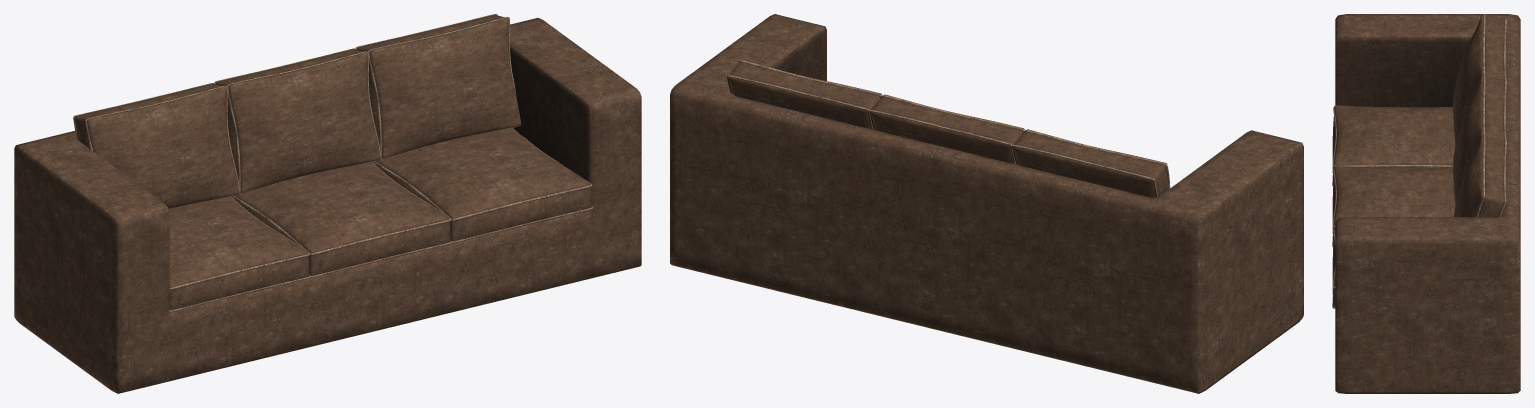
Rendered from Oldsofa.FBX.
The picture shows the model from 3 angles, left to right: view 1: azimuth 30°, elevation 25°; view 2: azimuth 150°, elevation 25°; view 3: azimuth 270°, elevation 25°; orthographic projection. The views are drawn at different scales.
Visible parts, largest first — view 1: Sofa; view 2: Sofa; view 3: Sofa.
Boxes of the visible parts, x1,y1,x2,y2 form: Sofa: (14,14,641,393); Sofa: (670,14,1303,393); Sofa: (1332,14,1520,393).
Bounding box in the file's own units: 2.5 × 0.9197 × 0.8796.
2 materials, 2 textured.
